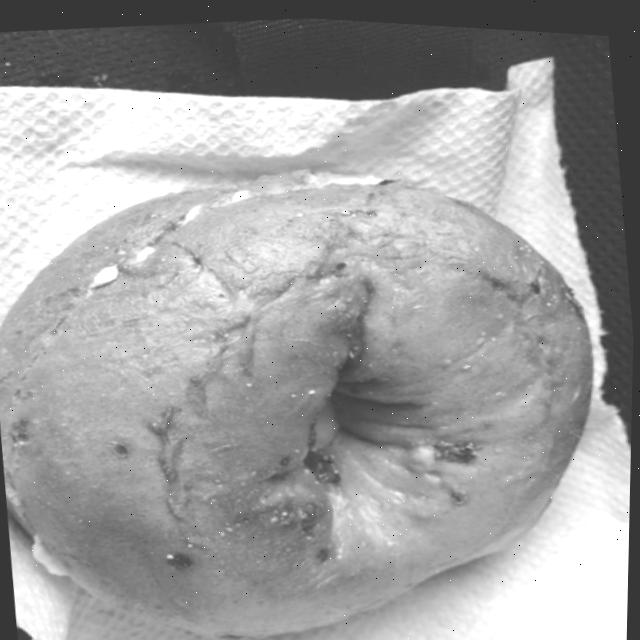面包点心: (0, 83, 638, 640)
